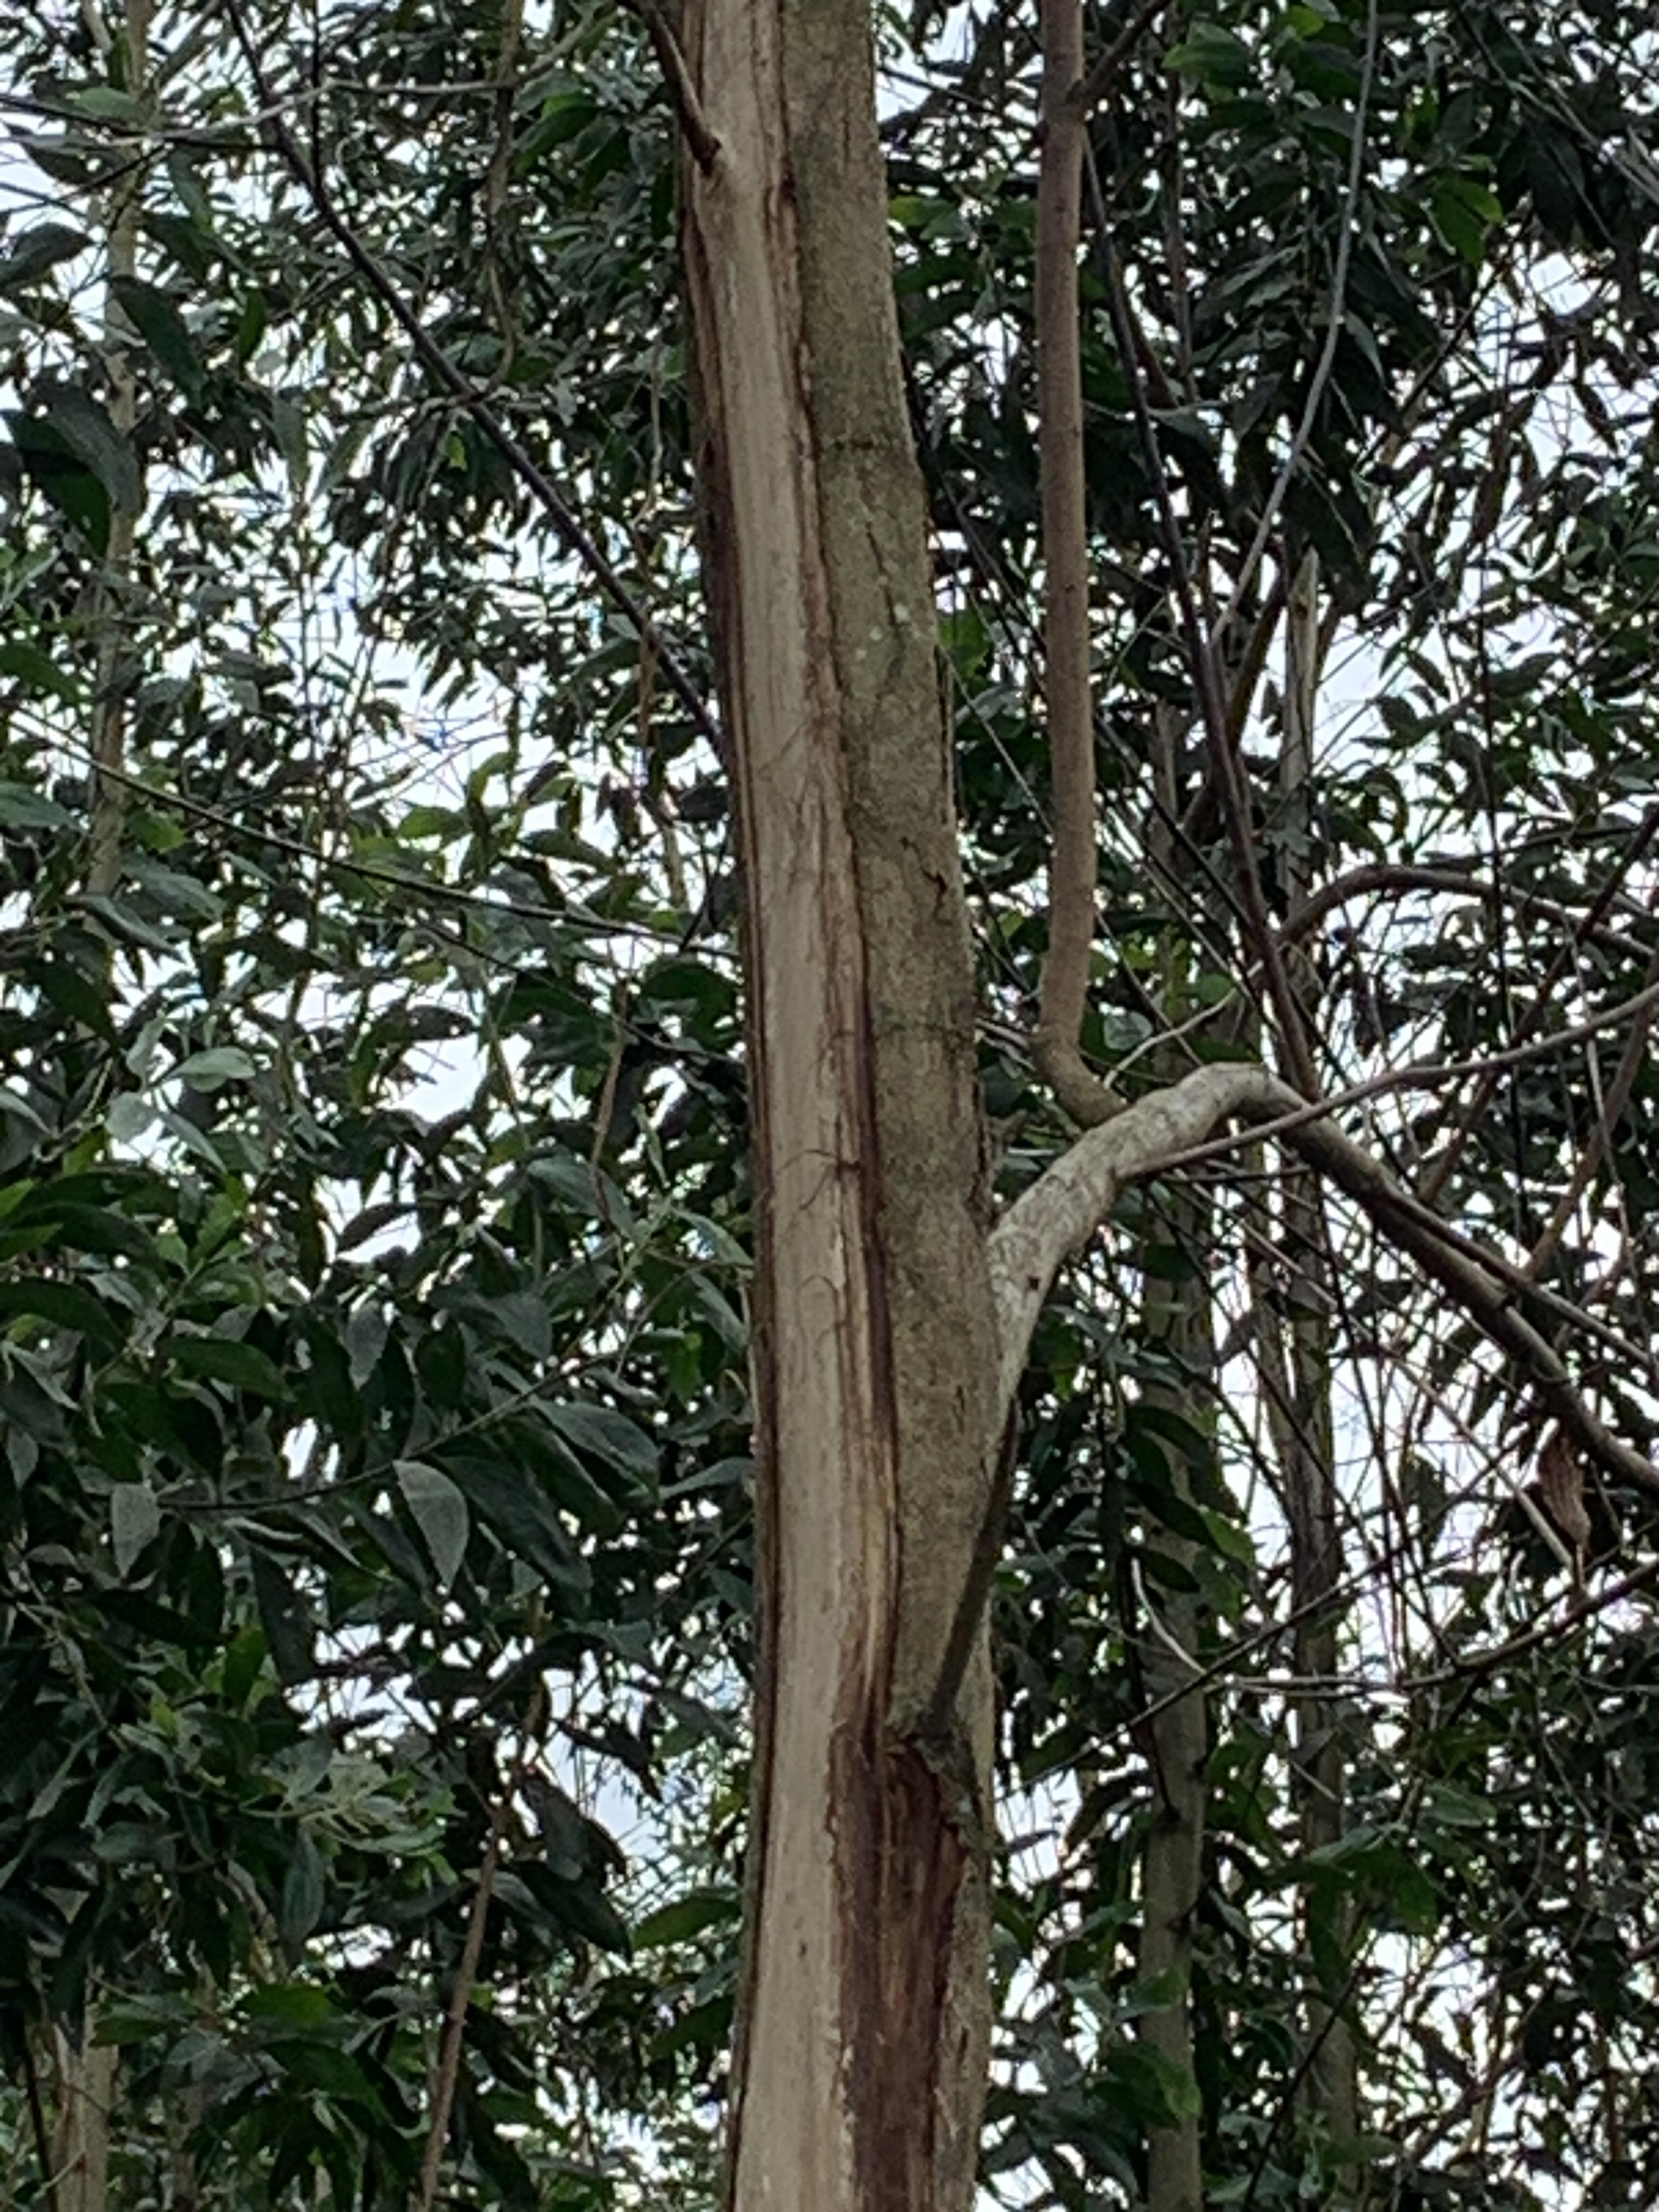Mammals Attack: (622, 0, 1021, 2212)
